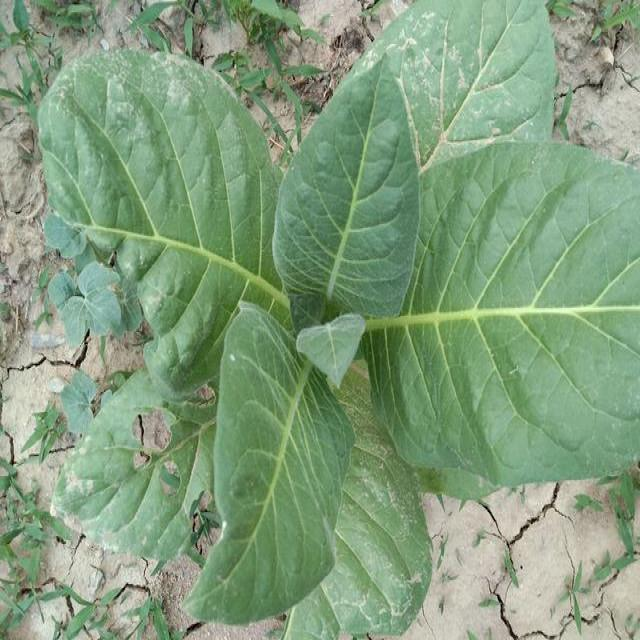crop: (38, 16, 640, 631)
